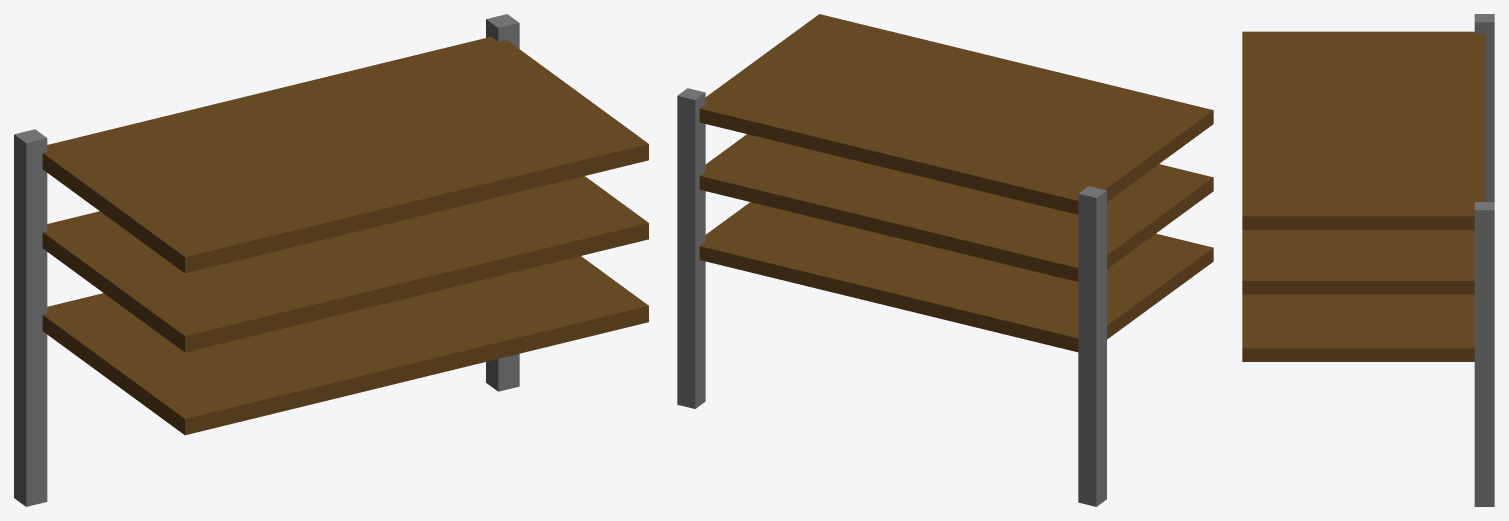
Rendered from Shelf_StorageRoom.fbx.
3 views of the same model, side by side, from view 1: azimuth 30°, elevation 25°; view 2: azimuth 150°, elevation 25°; view 3: azimuth 270°, elevation 25° (orthographic). The views are drawn at different scales.
Parts seen in each view (by area): view 1: Cube.007; view 2: Cube.007; view 3: Cube.007.
Boxes of the visible parts, left/top/right/bottom form: Cube.007: left=14, top=14, right=648, bottom=506; Cube.007: left=677, top=14, right=1213, bottom=506; Cube.007: left=1242, top=14, right=1494, bottom=506.
Size of the model in its own units: 213 by 150 by 115.
